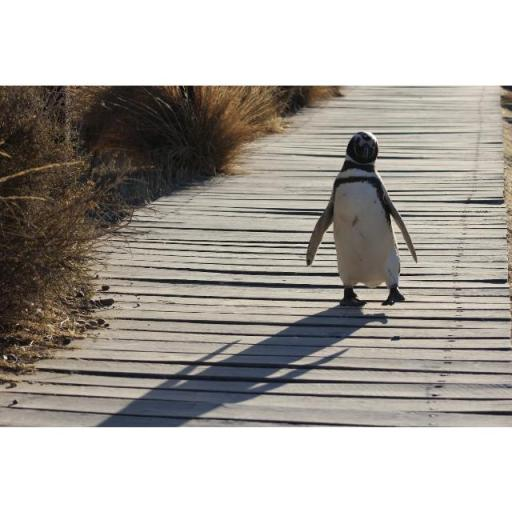penguins: (306, 130, 417, 307)
